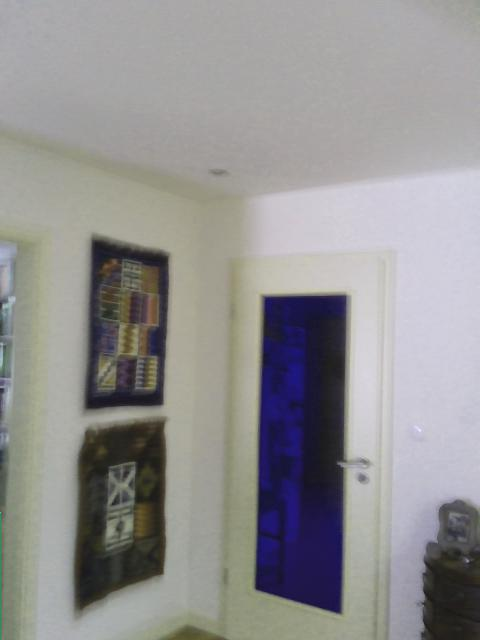closed_door: (220, 251, 390, 639)
